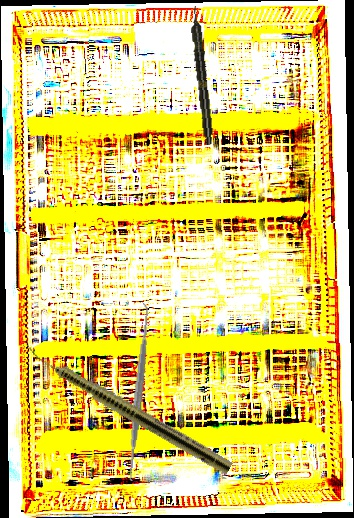Handpiece: (20, 341, 235, 476), (188, 5, 216, 146)
Spatula Surgical: (119, 301, 158, 483)
